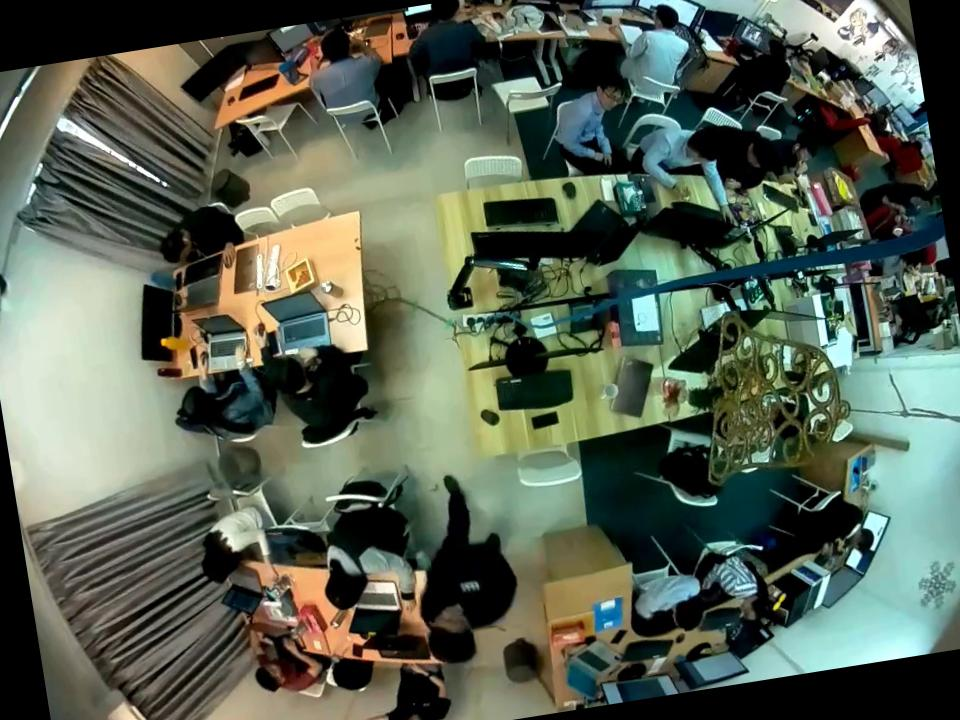employee_tag: (460, 577, 480, 594)
